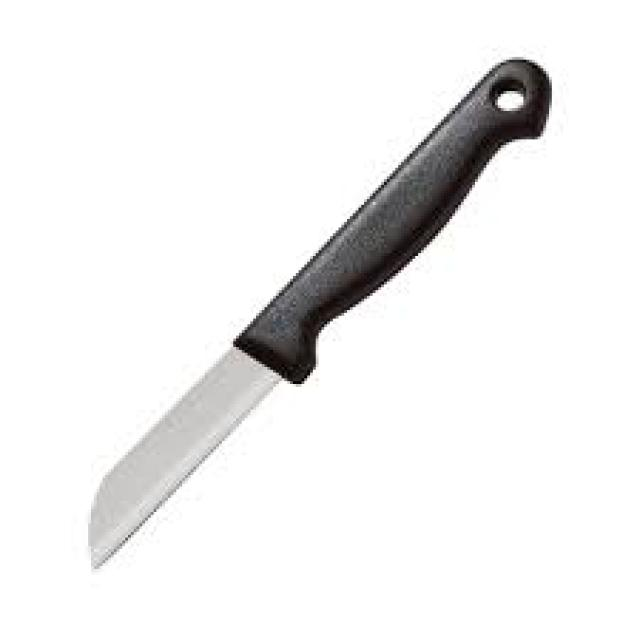Knife: (85, 54, 552, 569)
